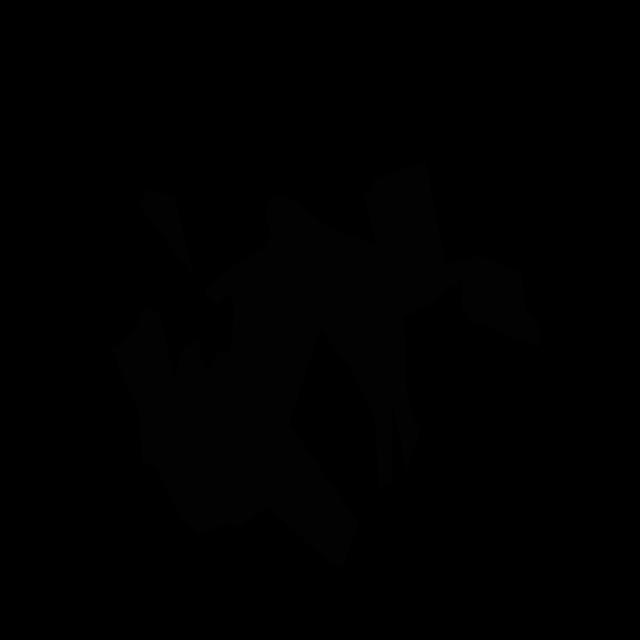cardboard: (110, 249, 392, 568), (262, 192, 420, 472), (364, 161, 462, 318), (446, 255, 540, 348), (140, 189, 194, 278)
